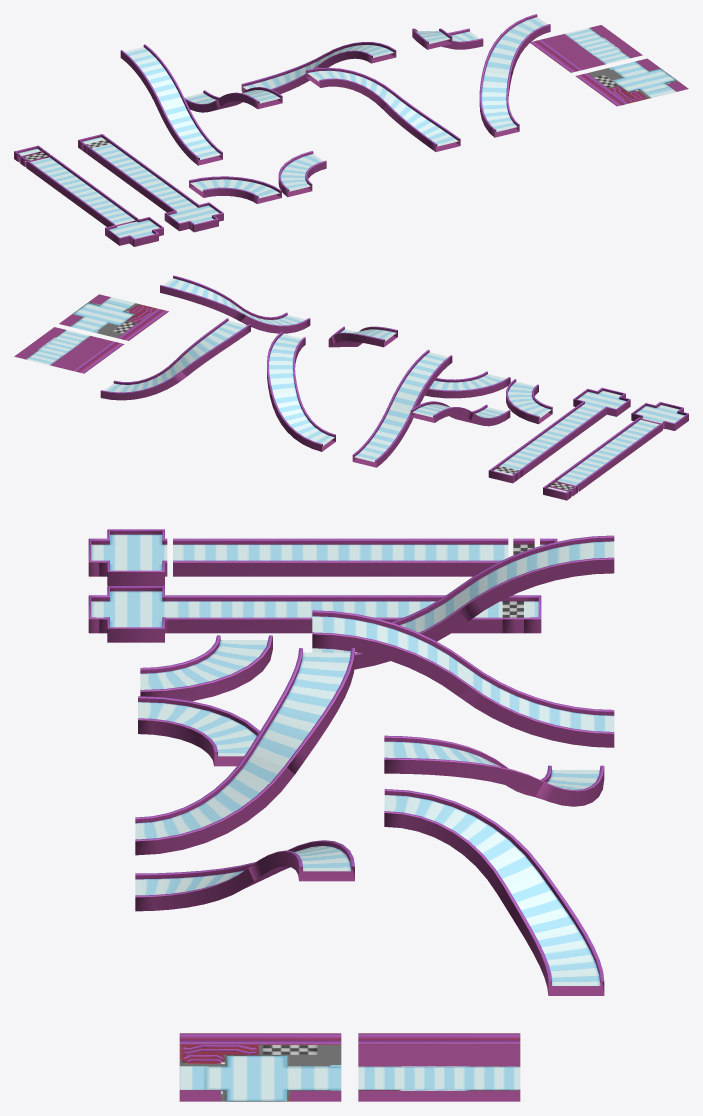
Rendered from platforms.fbx.
The picture shows the model from 3 angles, top to bottom: view 1: azimuth 30°, elevation 25°; view 2: azimuth 150°, elevation 25°; view 3: azimuth 270°, elevation 25°; orthographic projection. The views are drawn at different scales.
Visible parts, largest first — view 1: Plataforma015, Plataforma018, Plataforma020, Plane002, Plane003, Plataforma002, Plataforma007, Plataforma022, Plataforma014, Plataforma017, Plataforma013, Plataforma006 (+2 smaller); view 2: Plataforma017, Plataforma022, Plataforma021, Plane002, Plane003, Plataforma002, Plataforma007, Plataforma018, Plataforma015, Plataforma013, Plataforma014, Plataforma020 (+2 smaller); view 3: Plataforma021, Plataforma020, Plataforma002, Plataforma017, Plane002, Plane003, Plataforma007, Plataforma015, Plataforma018, Plataforma022, Plataforma014, Plataforma013 (+2 smaller).
Part boxes in pixels (<box>): Plataforma015: <box>120,44,222,165</box>; Plataforma018: <box>479,14,550,137</box>; Plataforma020: <box>306,67,460,151</box>; Plane002: <box>575,58,688,106</box>; Plane003: <box>530,25,642,72</box>; Plataforma002: <box>26,155,137,226</box>; Plataforma007: <box>87,141,197,212</box>; Plataforma022: <box>241,42,396,94</box>; Plataforma014: <box>189,176,281,203</box>; Plataforma017: <box>184,87,282,112</box>; Plataforma013: <box>278,151,326,197</box>; Plataforma006: <box>164,202,223,232</box>; Plataforma017: <box>352,349,452,467</box>; Plataforma022: <box>267,331,335,451</box>; Plataforma021: <box>100,318,250,400</box>; Plane002: <box>59,294,168,340</box>; Plane003: <box>14,327,124,373</box>; Plataforma002: <box>555,417,662,491</box>; Plataforma007: <box>499,402,606,475</box>; Plataforma018: <box>160,275,310,333</box>; Plataforma015: <box>410,401,510,426</box>; Plataforma013: <box>425,371,510,398</box>; Plataforma014: <box>506,379,552,424</box>; Plataforma020: <box>328,326,397,347</box>; Plataforma021: <box>384,789,604,995</box>; Plataforma020: <box>135,648,354,855</box>; Plataforma002: <box>173,538,508,576</box>; Plataforma017: <box>312,610,614,747</box>; Plane002: <box>179,1033,341,1101</box>; Plane003: <box>358,1033,520,1101</box>; Plataforma007: <box>167,595,502,633</box>; Plataforma015: <box>312,535,614,669</box>; Plataforma018: <box>135,840,354,911</box>; Plataforma022: <box>384,735,604,806</box>; Plataforma014: <box>140,635,272,701</box>; Plataforma013: <box>138,696,259,766</box>.
Size of the model in its own units: 8942 by 992 by 3557.
